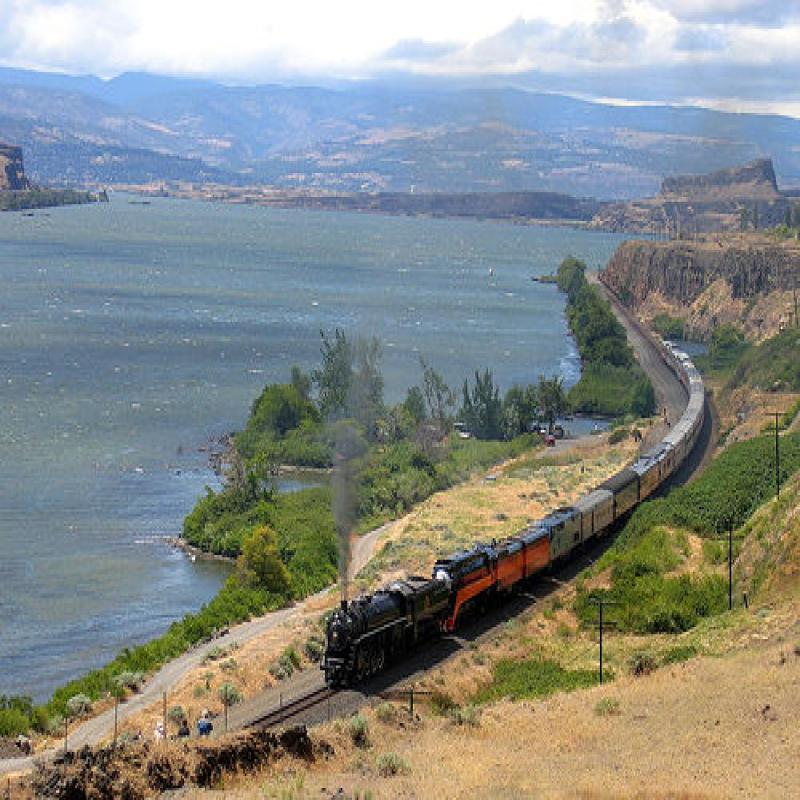train: (323, 337, 708, 698)
